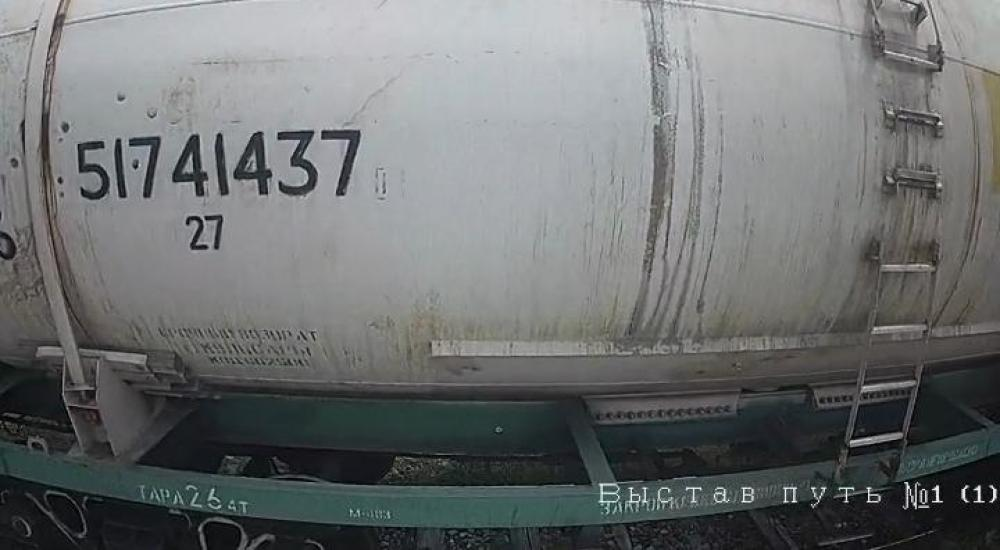Wagon-number: (72, 120, 367, 208)
